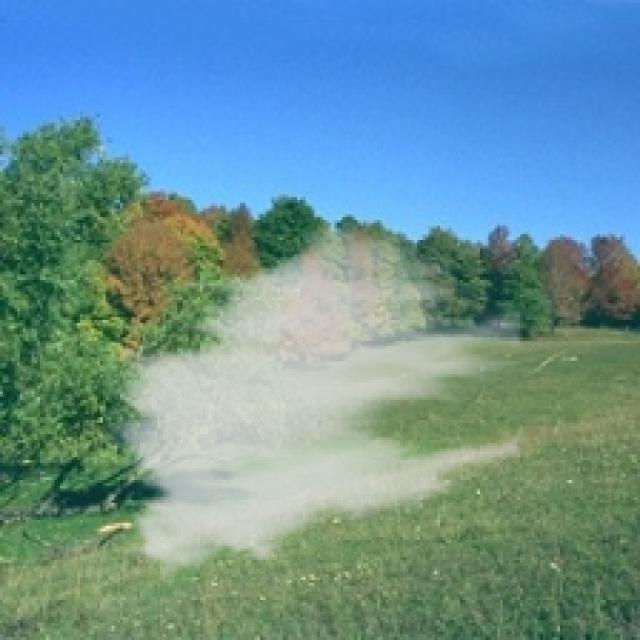smoke: (100, 214, 523, 589)
